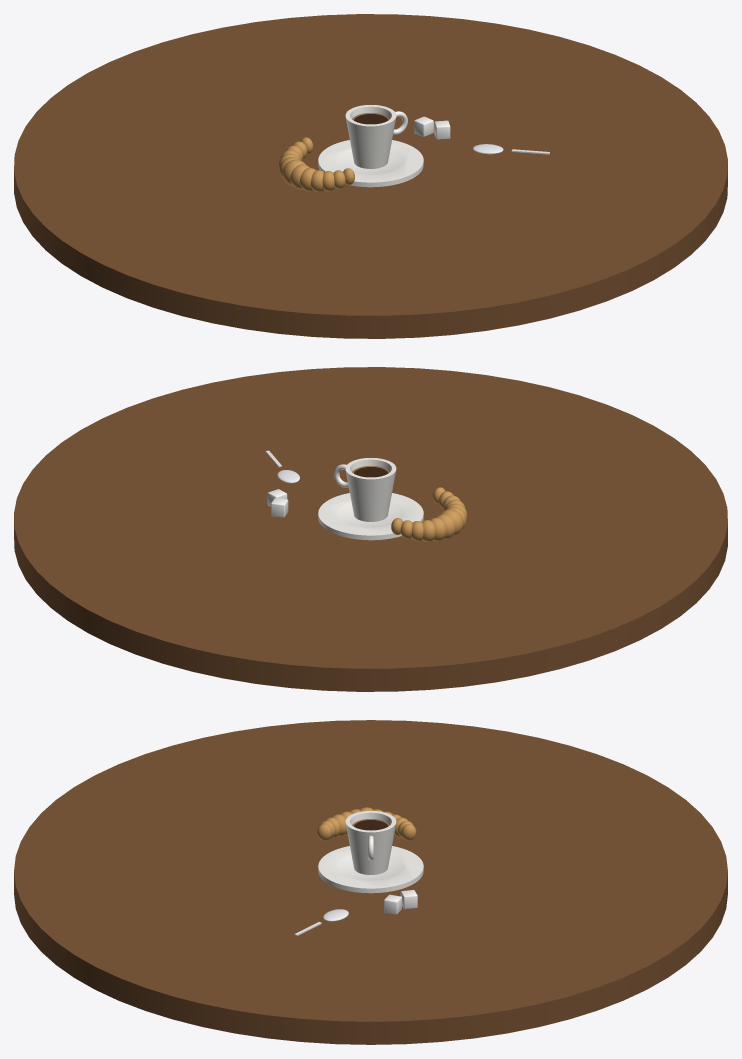
The picture shows the model from 3 angles, top to bottom: view 1: azimuth 30°, elevation 25°; view 2: azimuth 150°, elevation 25°; view 3: azimuth 270°, elevation 25°; orthographic projection.
Visible parts, largest first — view 1: Cylinder, Cylinder.001, Cone, Sphere.001; view 2: Cylinder, Cylinder.001, Cone, Sphere.001; view 3: Cylinder, Cylinder.001, Cone, Sphere.001.
Boxes of the visible parts, x1,y1,x2,y2 form: Cylinder: (14,14,727,338); Cylinder.001: (318,140,423,187); Cone: (345,105,396,168); Sphere.001: (279,137,354,191); Cylinder: (14,367,727,691); Cylinder.001: (318,493,423,540); Cone: (345,458,396,521); Sphere.001: (391,487,467,541); Cylinder: (14,720,727,1044); Cylinder.001: (318,846,423,893); Cone: (345,811,396,874); Sphere.001: (317,807,416,840).
Size of the model in its own units: 0.84 by 0.094 by 0.84.
